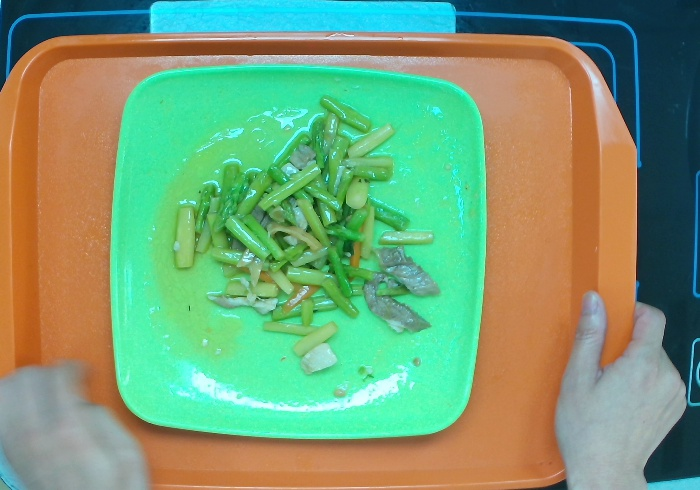ZNLD-Lv_Fang_Pan: (105, 62, 491, 441)
